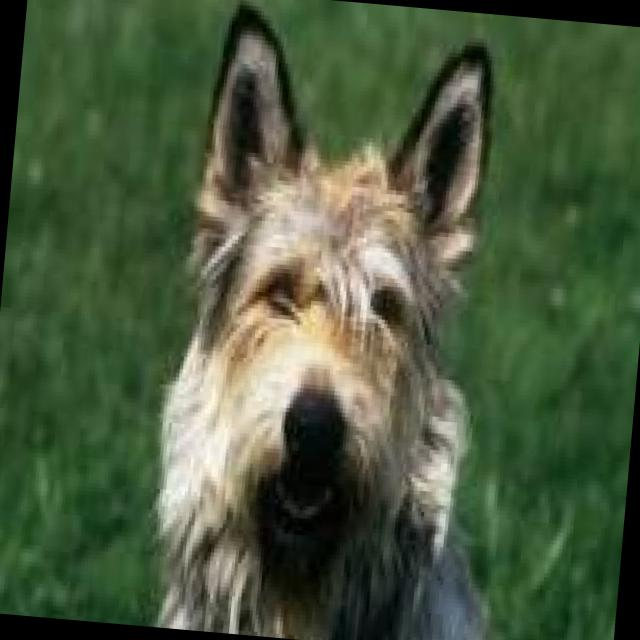Perro: (129, 0, 558, 640)
